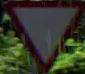Give way: (1, 0, 83, 70)
